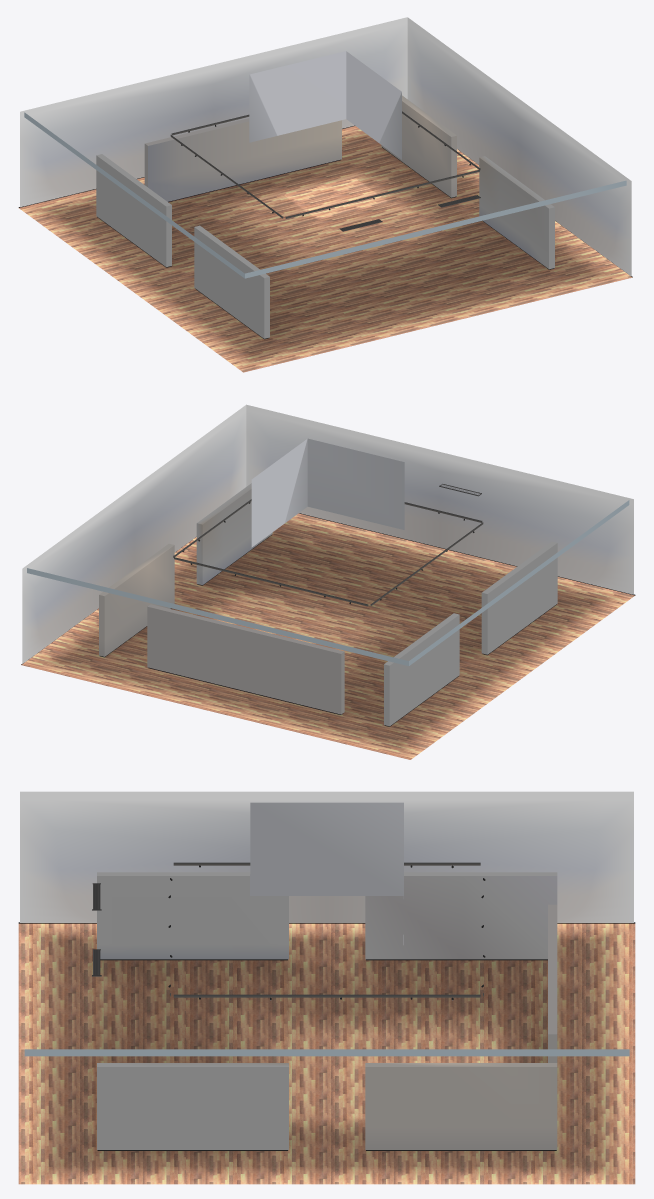
The model's file is gallery_small-DqxRKhTv.glb.
3 views of the same model, one above another, from view 1: azimuth 30°, elevation 25°; view 2: azimuth 150°, elevation 25°; view 3: azimuth 270°, elevation 25° (orthographic). The views are drawn at different scales.
Parts seen in each view (by area): view 1: Wall.003, TexturedFloor; view 2: Wall.003, TexturedFloor; view 3: Wall.003, TexturedFloor.
Part boxes in pixels (x1,y1,x2,y2): Wall.003: (18,17,632,339); TexturedFloor: (19,126,632,372); Wall.003: (21,404,635,726); TexturedFloor: (21,513,634,759); Wall.003: (18,791,635,1150); TexturedFloor: (18,923,635,1184).
Bounding box in the file's own units: 28.28 × 10.87 × 28.1.
2 materials, 1 textured.
